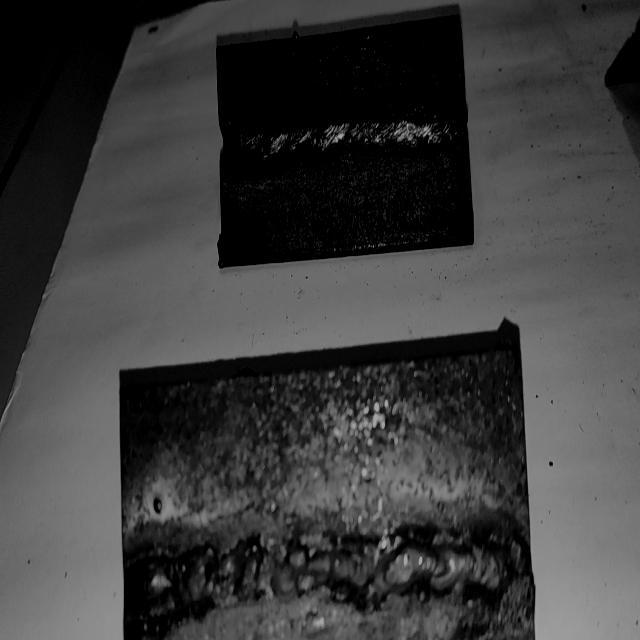Welding Line: (132, 532, 537, 629), (221, 100, 466, 156)
Workpiece: (119, 339, 538, 640), (214, 12, 478, 274)
